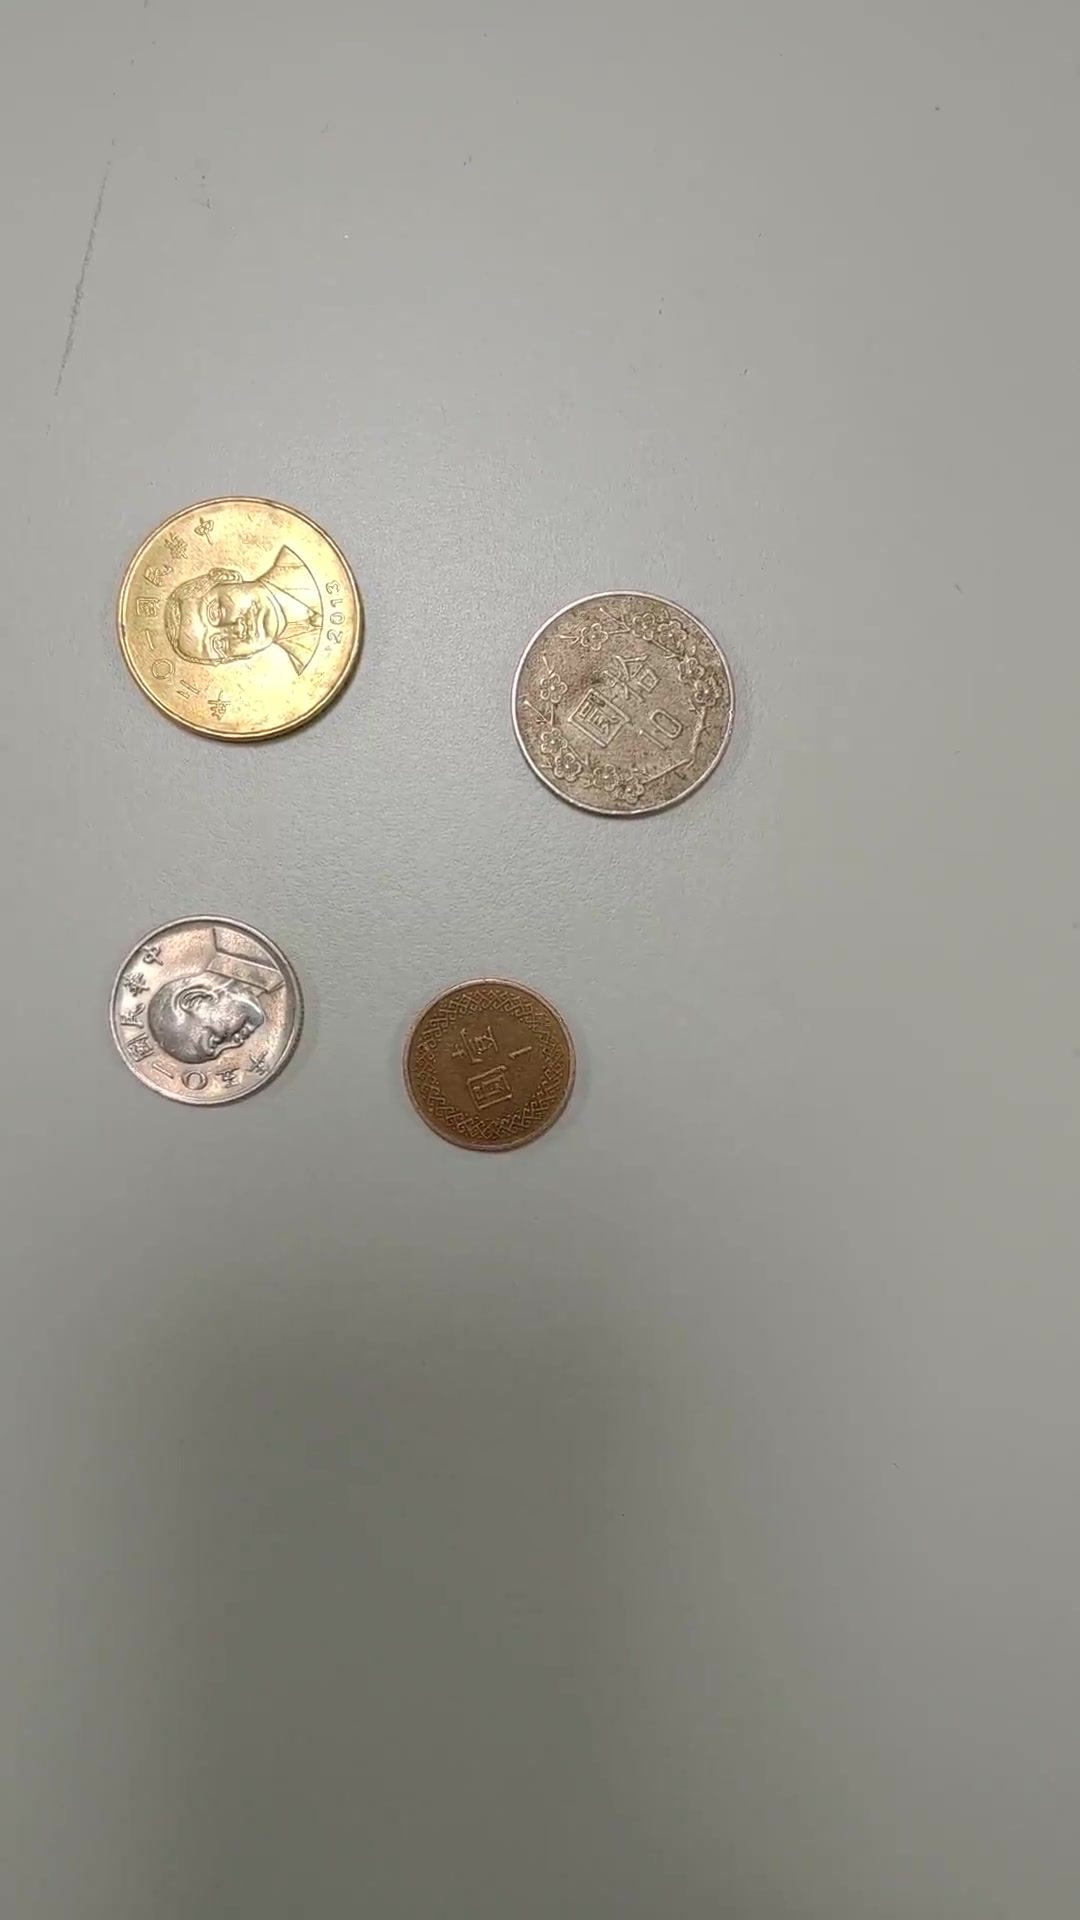10dollar: (495, 562, 791, 827)
1dollar: (375, 910, 671, 1175)
50dollar: (94, 483, 392, 748)
5dollar: (55, 866, 352, 1131)
